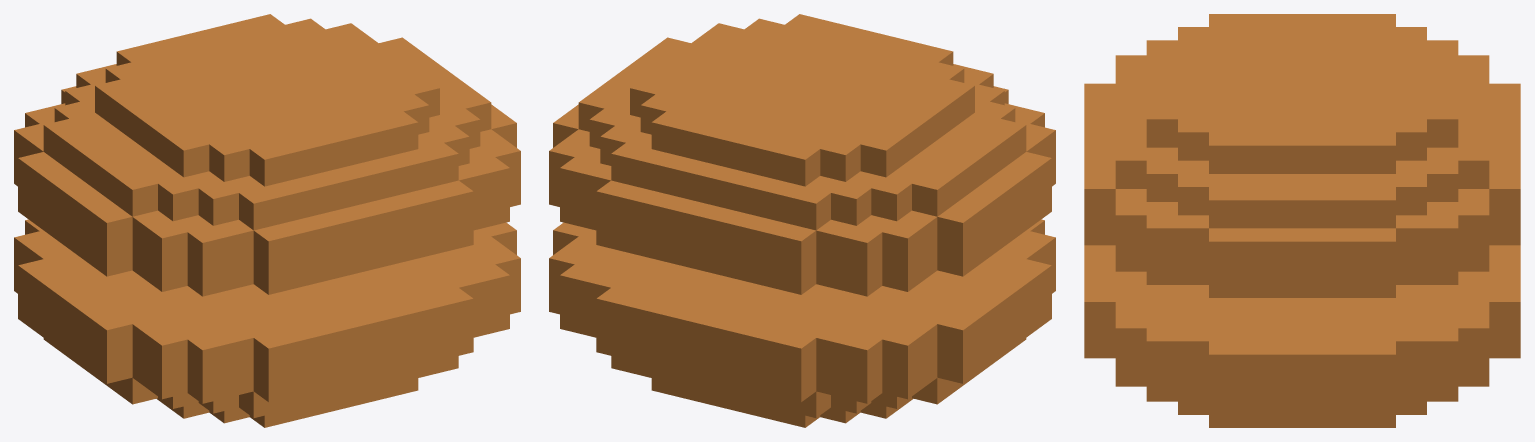
File: Buns.obj
3 views of the same model, side by side, from view 1: azimuth 30°, elevation 25°; view 2: azimuth 150°, elevation 25°; view 3: azimuth 270°, elevation 25° (orthographic). The views are drawn at different scales.
Bounding box in the file's own units: 1.6 × 1 × 1.4.
Materials: 1 (1 with a texture image).
